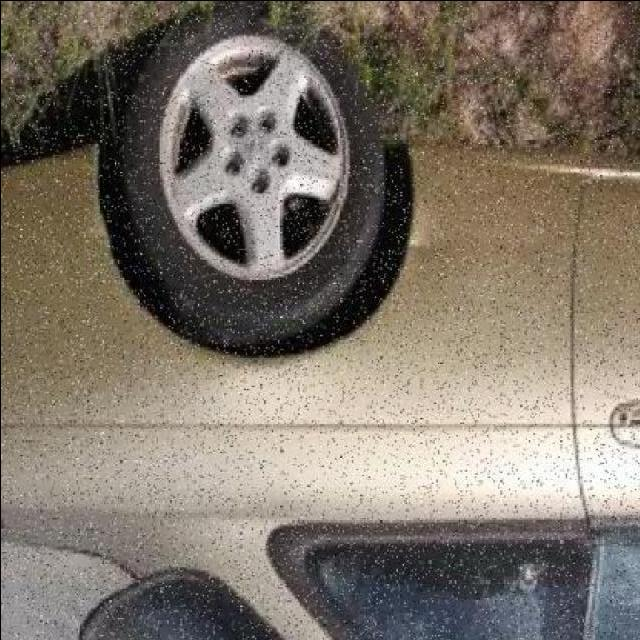quaterpanel-dent: (46, 136, 323, 423)
